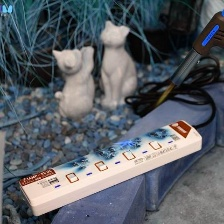three_eye_plug: (17, 119, 205, 218)
